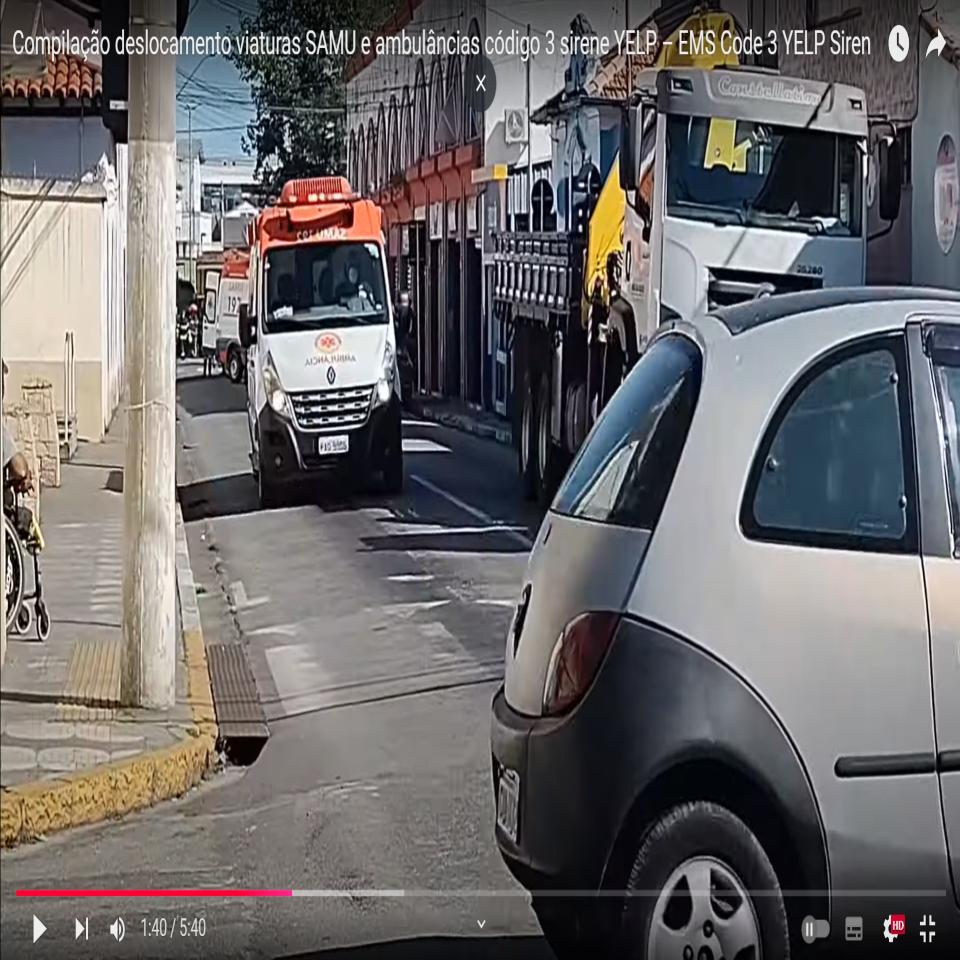bombeiro: (235, 168, 418, 510)
